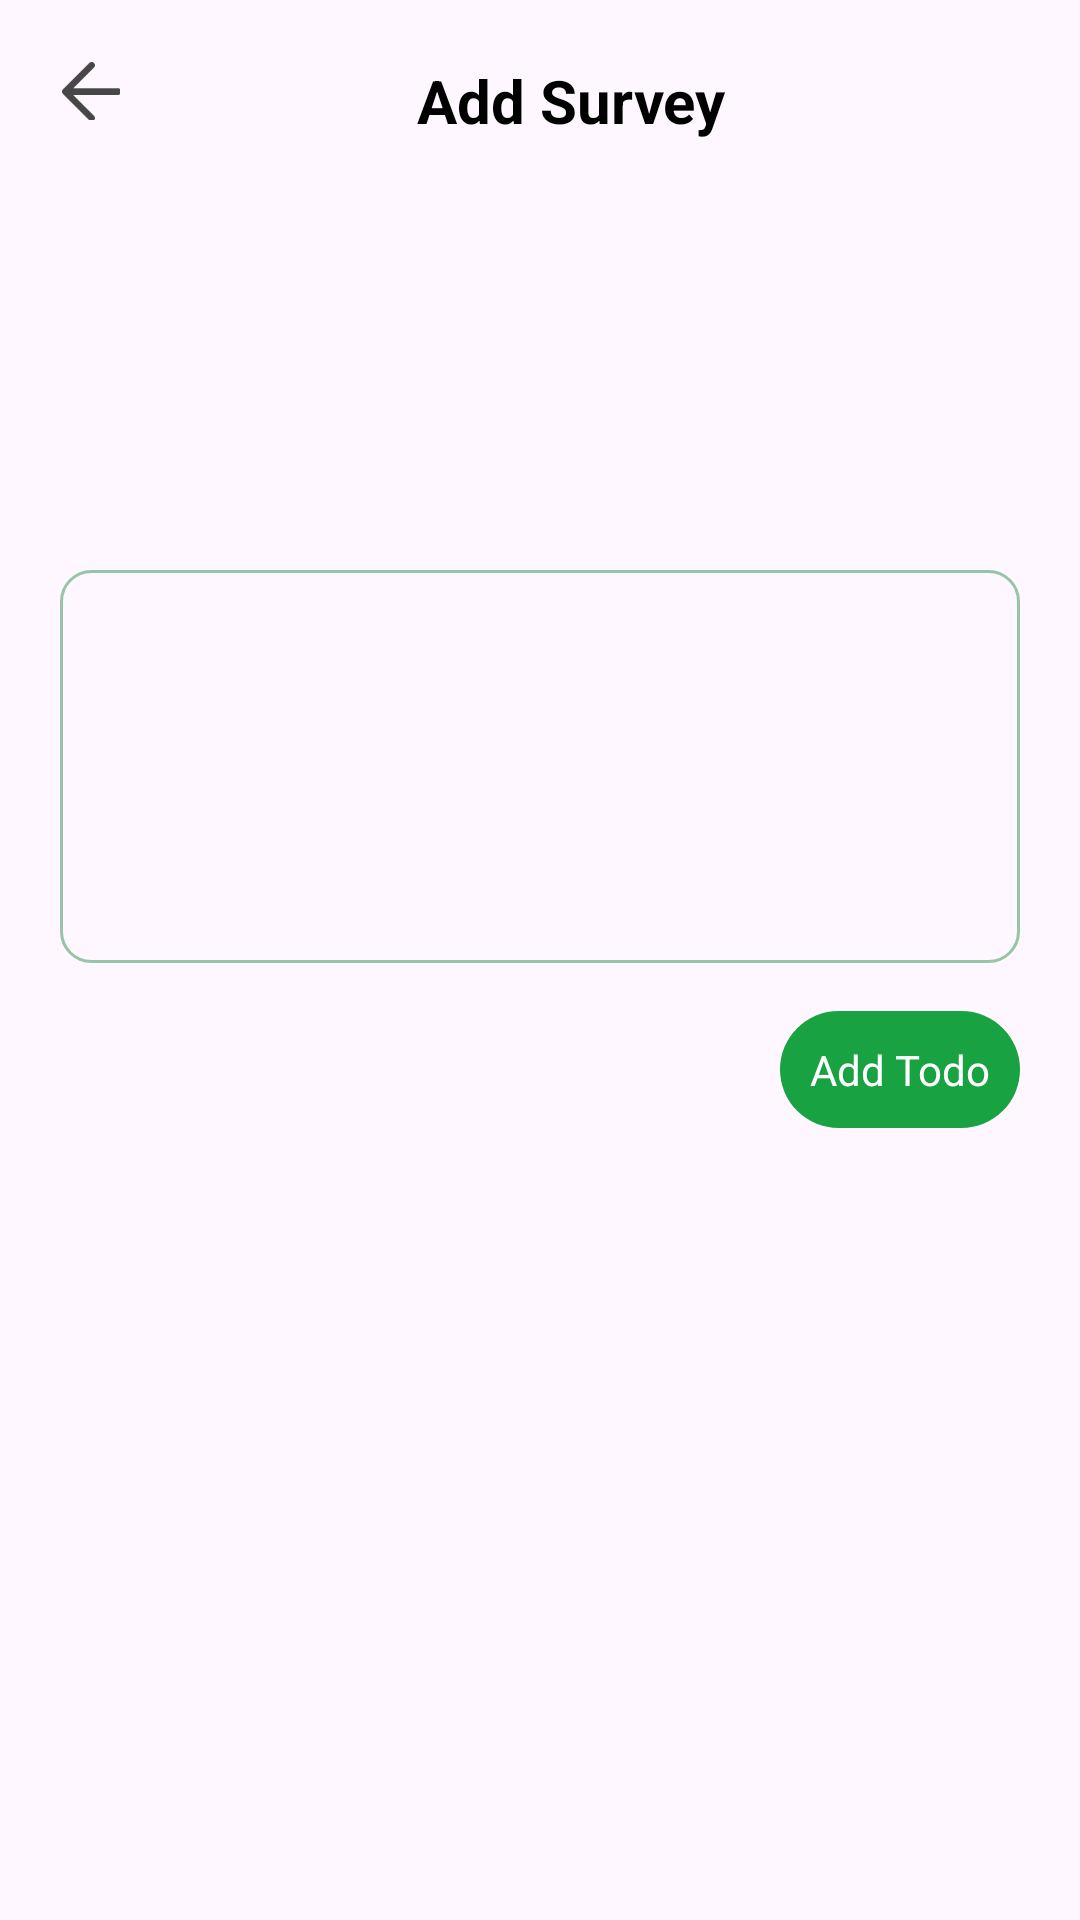

Where to tap for icons on this 1080w x 1920h app screen, as (x=x, y=y):
back: (x=91, y=91)
